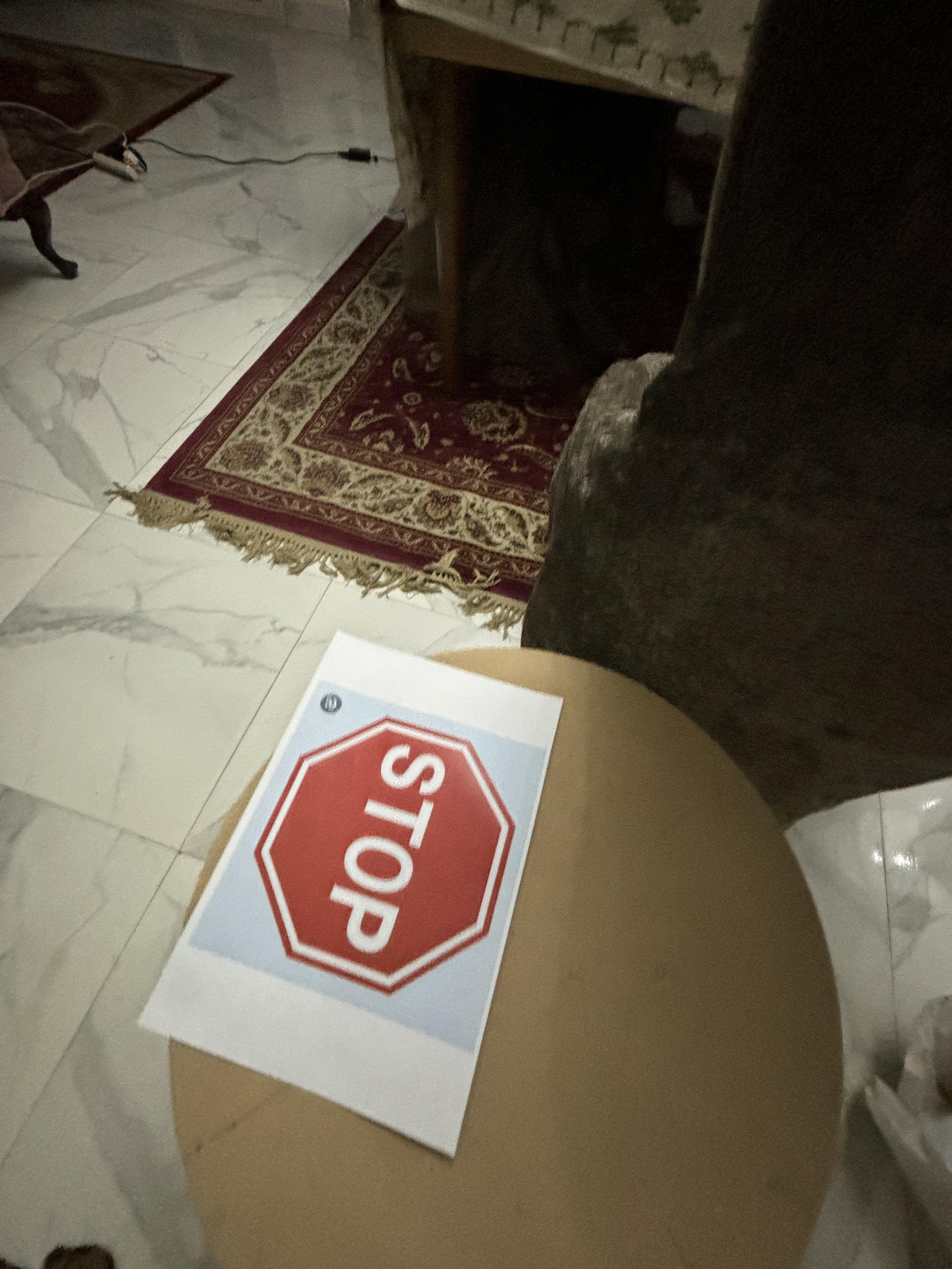Stop: (253, 709, 519, 986)
